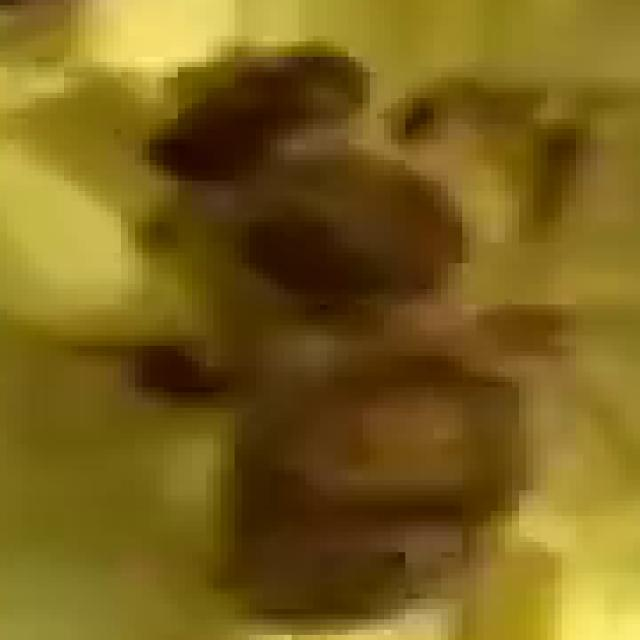honeybee: (147, 52, 518, 615)
